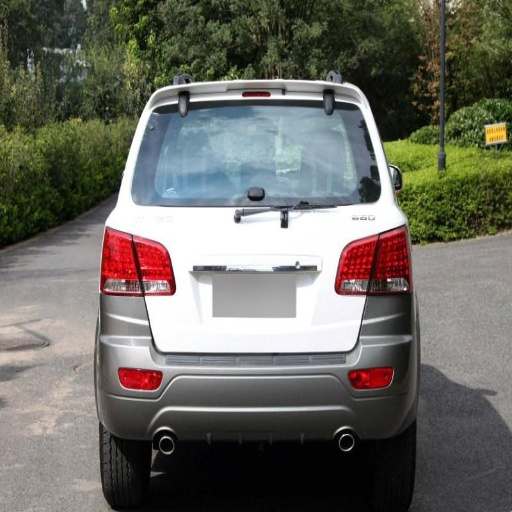back_bumper: (100, 292, 416, 441)
back_left_light: (101, 226, 144, 296)
trunk: (104, 206, 396, 353)
